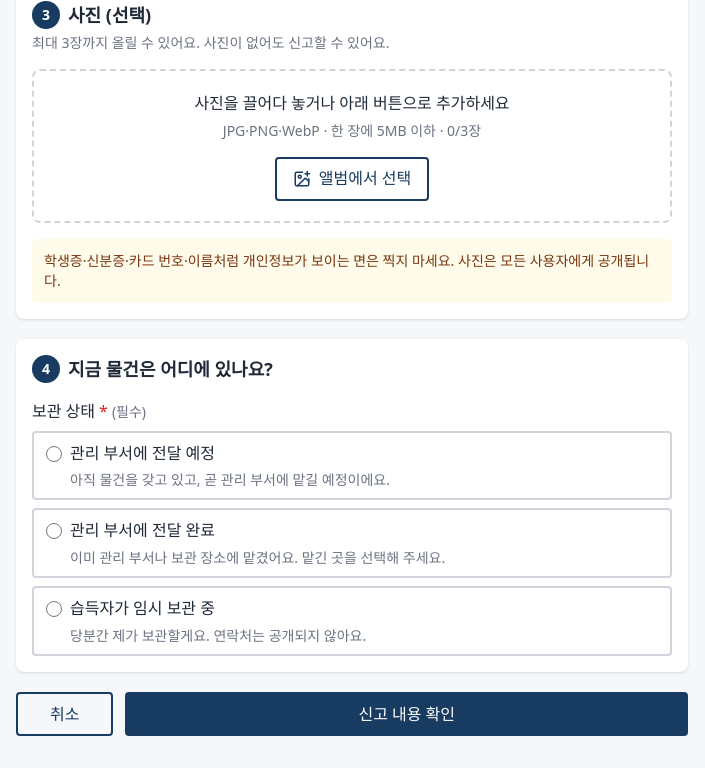
Test: ReportFoundPage › 빈 상태로 확인을 누르면 오류 요약을 보여주고 이동하지 않는다
(page scrolled)
Click the button "신고 내용 확인" at (407, 714), box [126,692,688,736]
(page scrolled)
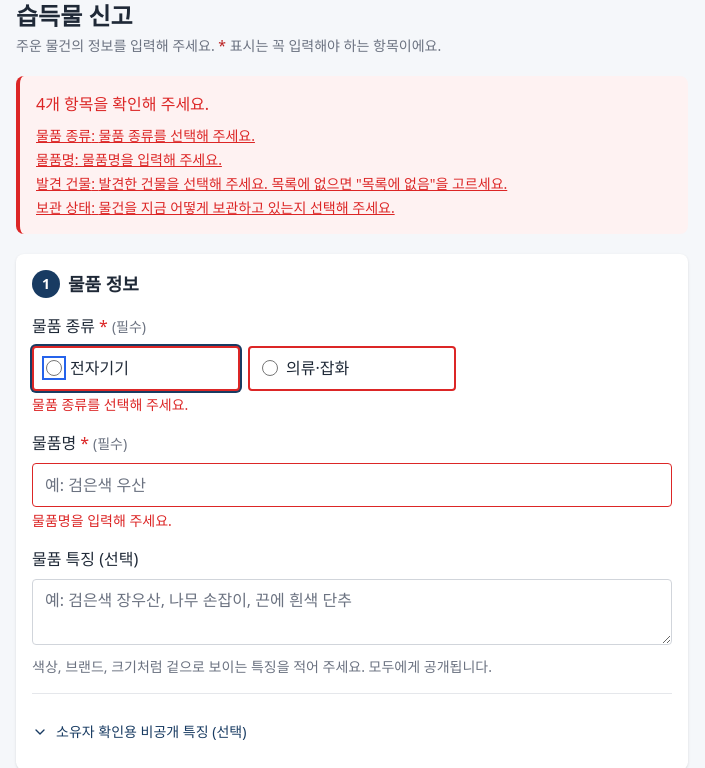
Expected: the message shows "4개 항목을 확인해 주세요.", [16,76,688,234]
